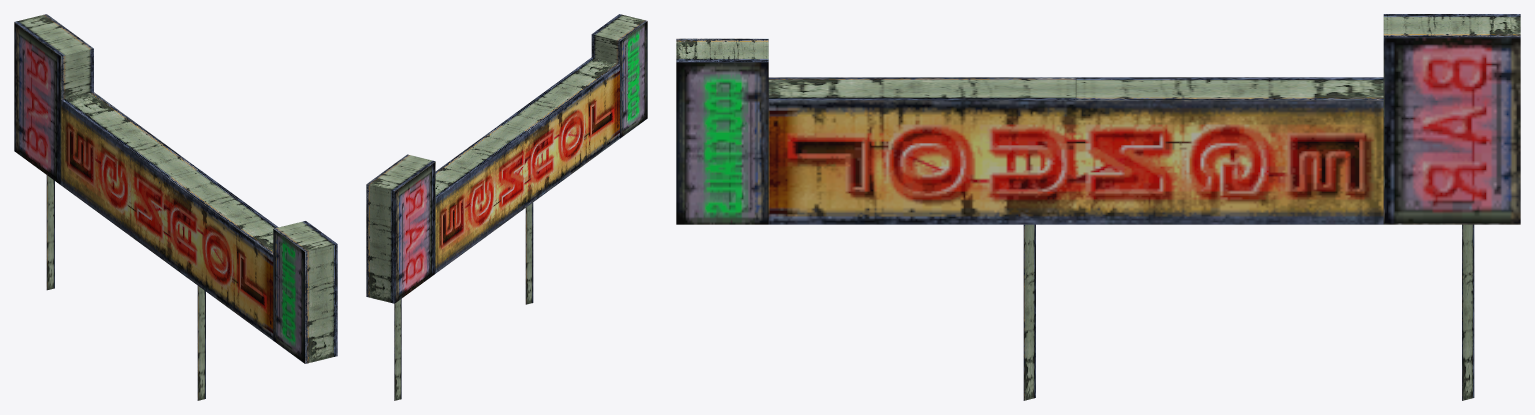
Rendered from barsign.fbx.
3 views of the same model, side by side, from view 1: azimuth 30°, elevation 25°; view 2: azimuth 150°, elevation 25°; view 3: azimuth 270°, elevation 25° (orthographic). The views are drawn at different scales.
Parts seen in each view (by area): view 1: mesh_0; view 2: mesh_0; view 3: mesh_0.
Boxes of the visible parts, bbox=[...] form: mesh_0: bbox=[14, 14, 337, 400]; mesh_0: bbox=[366, 14, 647, 400]; mesh_0: bbox=[676, 14, 1520, 400].
Size of the model in its own units: 20 by 150 by 308.
Materials: 1 (1 with a texture image).
